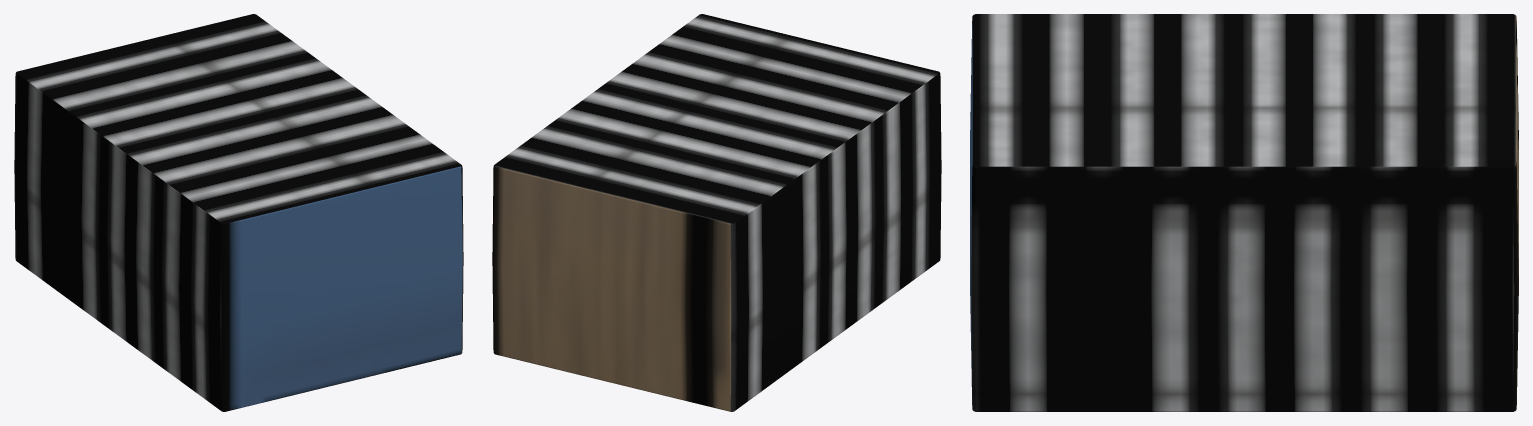
File: CardboardCarton_600x400x300.fbx
3 renders of one model, left to right at view 1: azimuth 30°, elevation 25°; view 2: azimuth 150°, elevation 25°; view 3: azimuth 270°, elevation 25°, orthographic. The views are drawn at different scales.
Parts seen in each view (by area): view 1: CardboardCarton_600x400x300_LOD0; view 2: CardboardCarton_600x400x300_LOD0; view 3: CardboardCarton_600x400x300_LOD0.
Boxes of the visible parts, left/top/right/bottom form: CardboardCarton_600x400x300_LOD0: left=14, top=14, right=463, bottom=411; CardboardCarton_600x400x300_LOD0: left=492, top=14, right=941, bottom=411; CardboardCarton_600x400x300_LOD0: left=970, top=14, right=1518, bottom=411.
Size of what is drawn, in the model's own units: 0.405 by 0.3 by 0.605.
